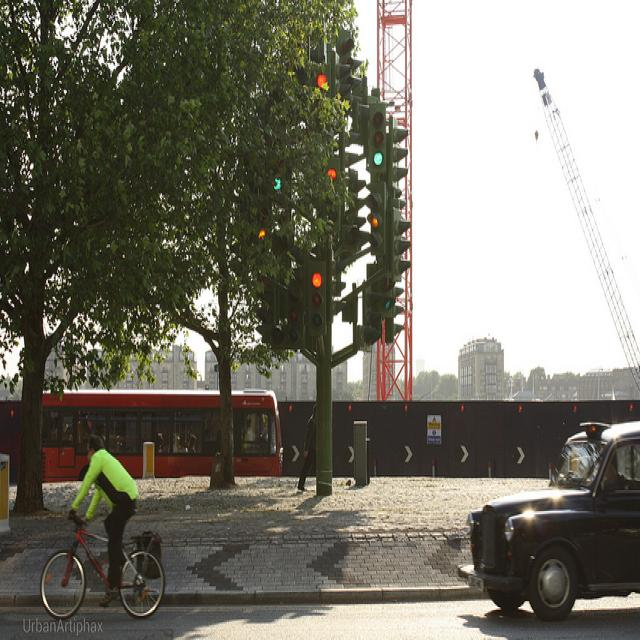Vehicle: (468, 421, 639, 619), (45, 390, 283, 477)
